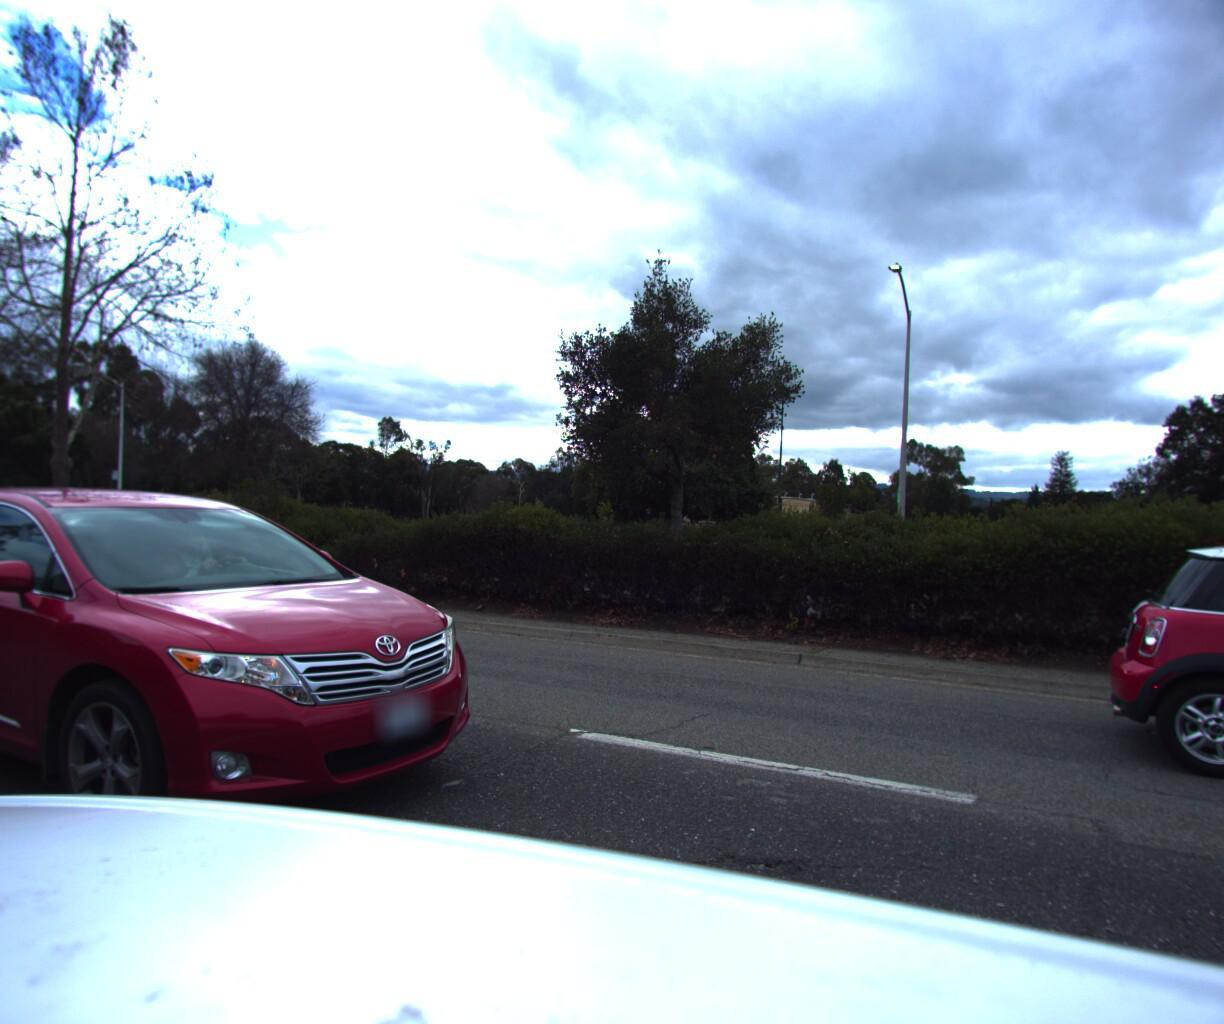car: (0, 474, 523, 924), (1084, 534, 1224, 888)
